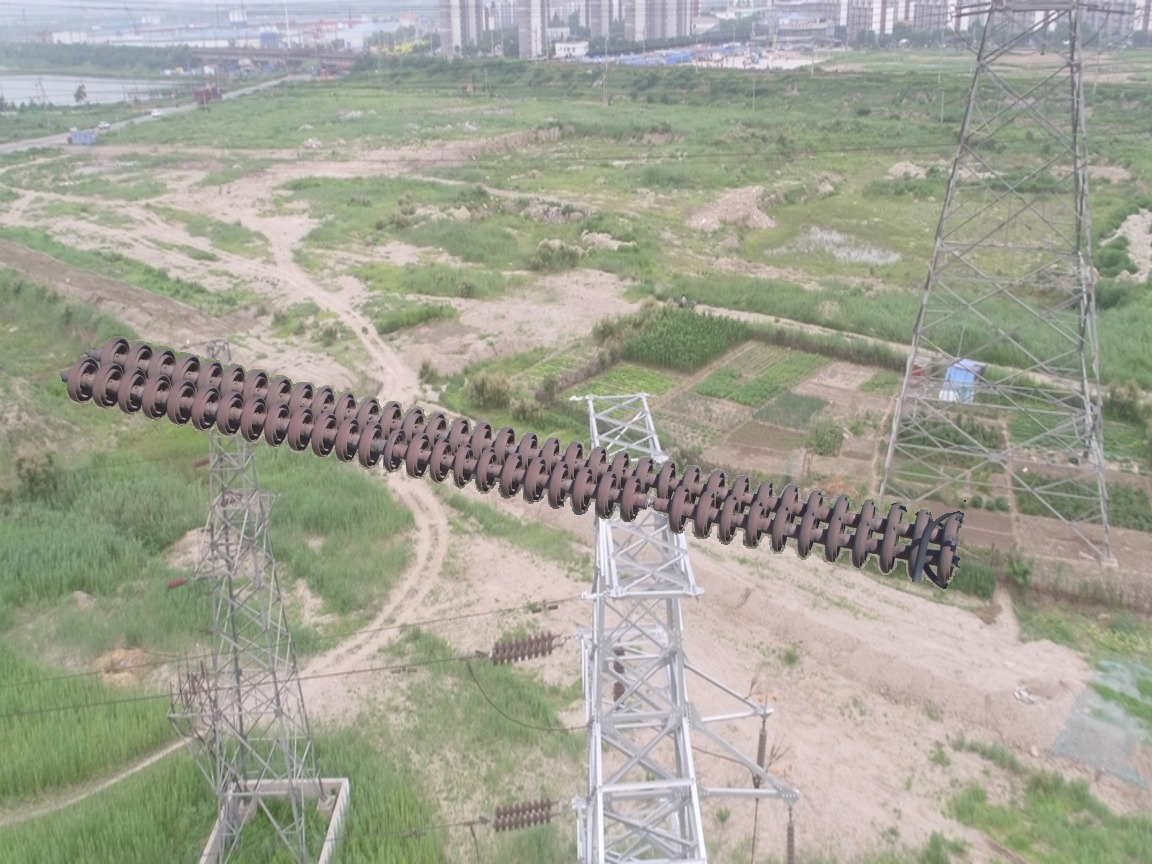defect: (610, 475, 695, 534)
